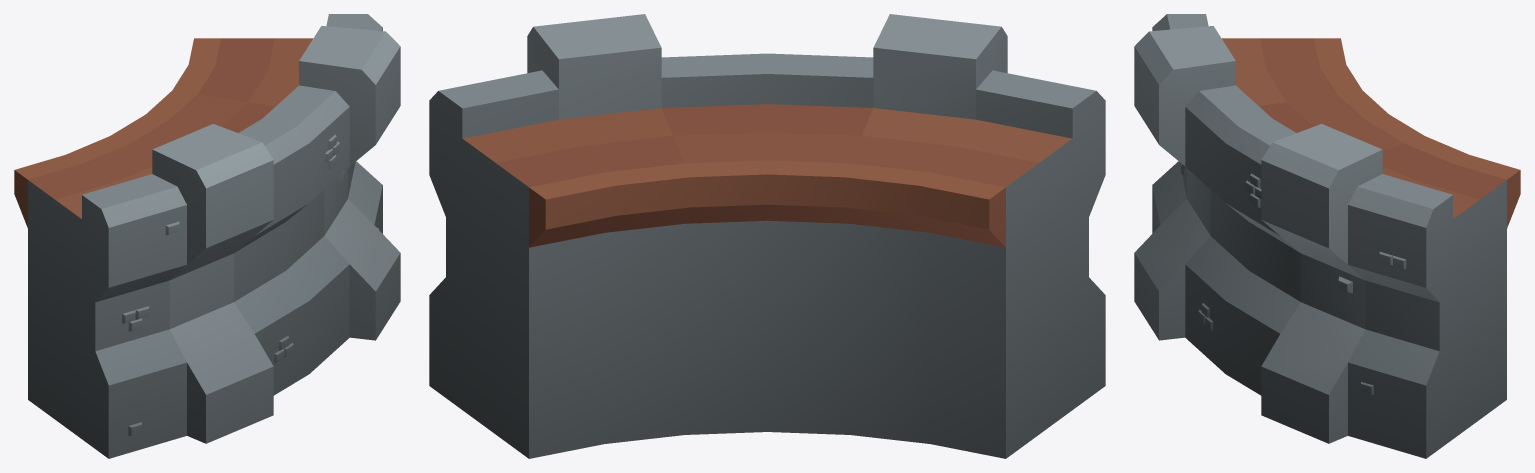
The model's file is H_wall_corner_A_outside.glb.
3 views of the same model, side by side, from view 1: azimuth 30°, elevation 25°; view 2: azimuth 150°, elevation 25°; view 3: azimuth 270°, elevation 25° (orthographic). The views are drawn at different scales.
Visible parts, largest first — view 1: wall_corner_A_outside; view 2: wall_corner_A_outside; view 3: wall_corner_A_outside.
Part boxes in pixels (bbox=[...]): wall_corner_A_outside: bbox=[14, 14, 400, 458]; wall_corner_A_outside: bbox=[429, 14, 1105, 458]; wall_corner_A_outside: bbox=[1134, 14, 1520, 458].
Size of the model in its own units: 1.76 by 1.1 by 1.43.
